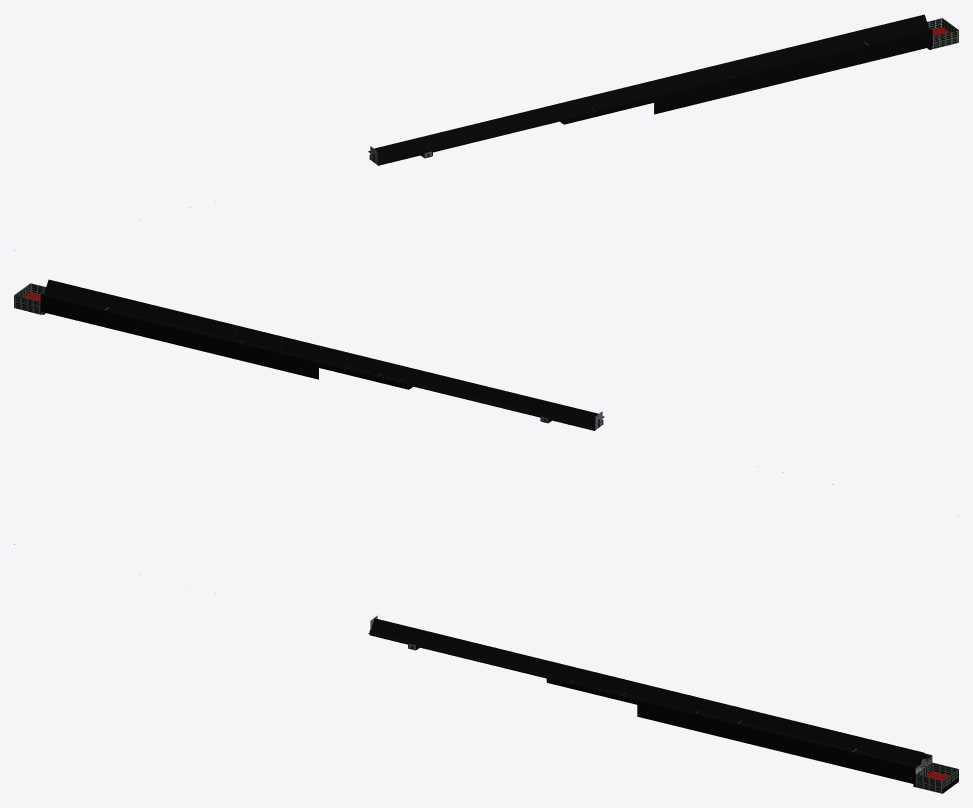
The model's file is map.glb.
3 views of the same model, one above another, from view 1: azimuth 30°, elevation 25°; view 2: azimuth 150°, elevation 25°; view 3: azimuth 330°, elevation 25° (orthographic).
Parts seen in each view (by area): view 1: poteau -col.020, sol16 -col.001; view 2: poteau -col.019, mur15 -col.002; view 3: poteau -col.020, sol16 -col.001, sol16 -col.002.
Part boxes in pixels (bbox=[...]): poteau -col.020: bbox=[374, 14, 930, 162]; sol16 -col.001: bbox=[654, 29, 932, 114]; poteau -col.019: bbox=[42, 279, 597, 428]; mur15 -col.002: bbox=[40, 294, 318, 379]; poteau -col.020: bbox=[368, 618, 923, 767]; sol16 -col.001: bbox=[637, 699, 923, 784]; sol16 -col.002: bbox=[915, 762, 958, 793].
Bounding box in the file's own units: 3991 × 119 × 127.
197 materials, 145 textured.
